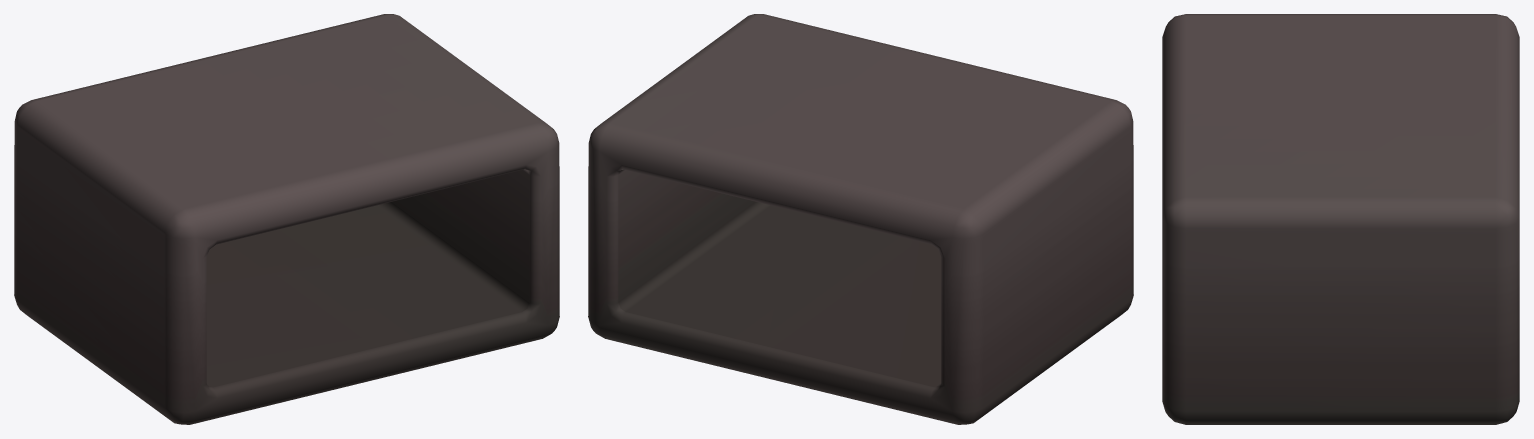
Rendered from Coffee_Table_05.glb.
3 renders of one model, left to right at view 1: azimuth 30°, elevation 25°; view 2: azimuth 150°, elevation 25°; view 3: azimuth 270°, elevation 25°, orthographic. The views are drawn at different scales.
Parts seen in each view (by area): view 1: Coffee_Table_05; view 2: Coffee_Table_05; view 3: Coffee_Table_05.
Boxes of the visible parts, bbox=[...] form: Coffee_Table_05: bbox=[14, 14, 559, 424]; Coffee_Table_05: bbox=[588, 14, 1133, 424]; Coffee_Table_05: bbox=[1162, 14, 1519, 424].
Size of the model in its own units: 0.8 by 0.4182 by 0.6.
1 material, 1 textured.
